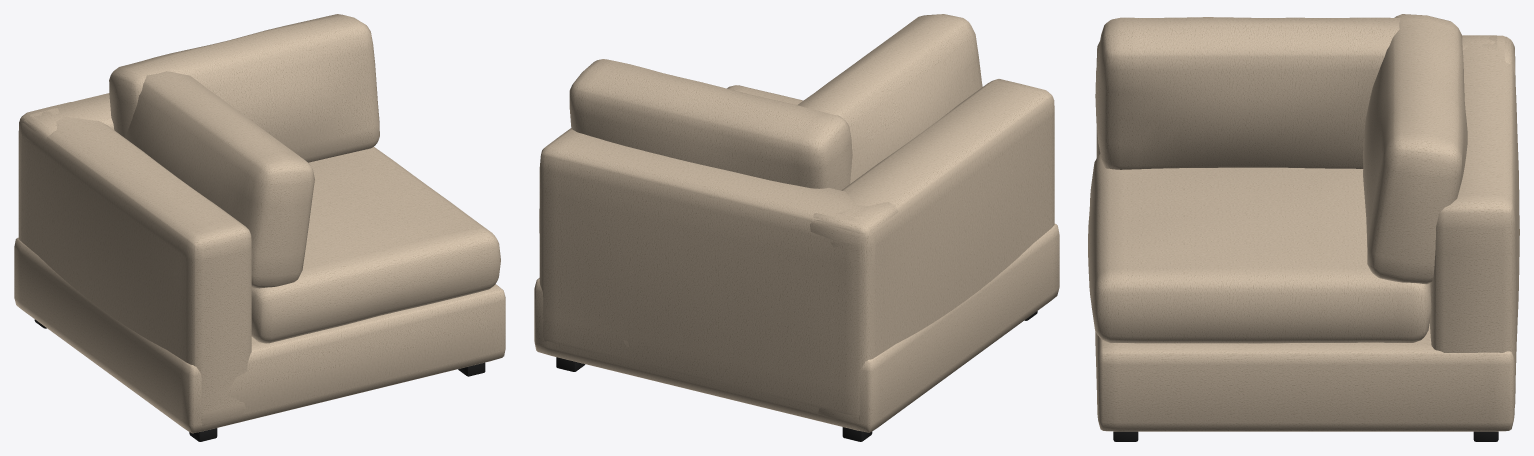
The model's file is sofa_modular_esquina.glb.
3 renders of one model, left to right at view 1: azimuth 30°, elevation 25°; view 2: azimuth 150°, elevation 25°; view 3: azimuth 270°, elevation 25°, orthographic. The views are drawn at different scales.
Visible parts, largest first — view 1: sofa_modular_esquina; view 2: sofa_modular_esquina; view 3: sofa_modular_esquina.
Boxes of the visible parts, box(x1,y1,x2,y2) form: sofa_modular_esquina: box(14, 14, 505, 441); sofa_modular_esquina: box(534, 14, 1059, 441); sofa_modular_esquina: box(1088, 14, 1519, 441).
Size of the model in its own units: 1.02 by 0.8082 by 1.03.
2 materials, 1 textured.
